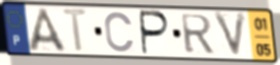A: (26, 7, 70, 54)
C: (103, 10, 136, 54)
P: (139, 9, 172, 57)
R: (179, 13, 217, 55)
T: (60, 7, 91, 55)
V: (211, 11, 249, 60)
